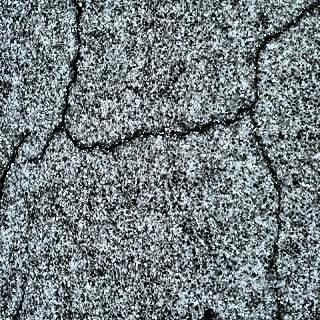crack: (3, 92, 290, 175), (245, 2, 320, 92), (56, 0, 94, 86)
